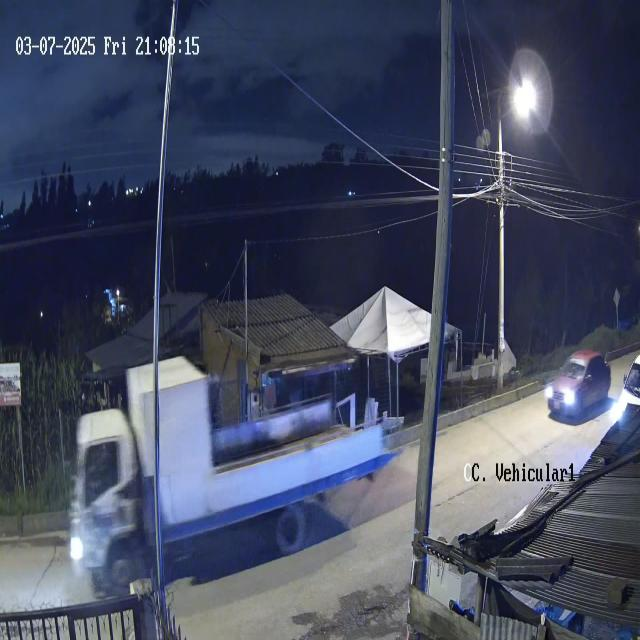SED: (542, 350, 612, 430)
TRUCK: (72, 352, 384, 602)
